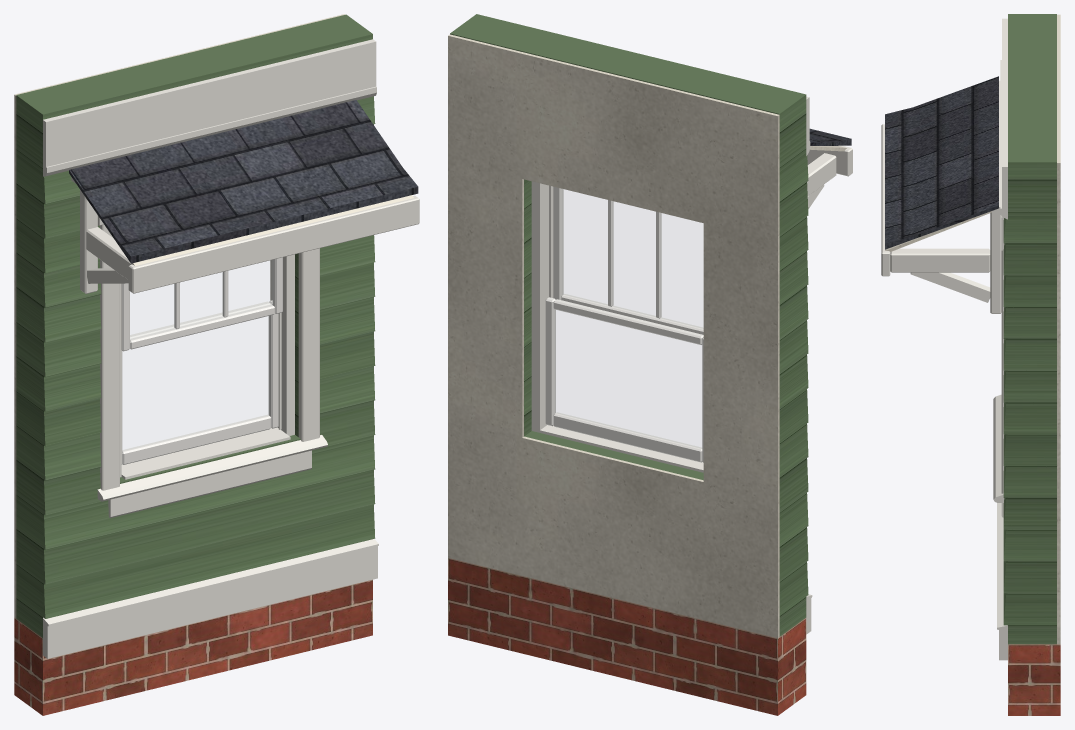
File: wall_siding_window_hood.glb
3 renders of one model, left to right at view 1: azimuth 30°, elevation 25°; view 2: azimuth 150°, elevation 25°; view 3: azimuth 270°, elevation 25°, orthographic. The views are drawn at different scales.
Visible parts, largest first — view 1: wall_siding_window_hood_siding, wall_siding_window_hood_trim, wall_siding_window_hood_shingles, wall_siding_window_hood_brick, folha_glass, wall_siding_window_hood_glass, folha_sash, wall_siding_window_hood_sash, wall_siding_window_hood_plaster, wall_siding_window_hood_frame; view 2: wall_siding_window_hood_plaster, wall_siding_window_hood_brick, wall_siding_window_hood_siding, folha_glass, wall_siding_window_hood_glass, folha_sash, wall_siding_window_hood_frame, wall_siding_window_hood_trim, wall_siding_window_hood_sash; view 3: wall_siding_window_hood_siding, wall_siding_window_hood_shingles, wall_siding_window_hood_trim, wall_siding_window_hood_brick, wall_siding_window_hood_plaster.
Part boxes in pixels (<box>): wall_siding_window_hood_siding: <box>16,14,375,637</box>; wall_siding_window_hood_trim: <box>43,39,419,658</box>; wall_siding_window_hood_shingles: <box>69,100,418,263</box>; wall_siding_window_hood_brick: <box>14,579,372,715</box>; folha_glass: <box>123,316,269,450</box>; wall_siding_window_hood_glass: <box>130,260,273,339</box>; folha_sash: <box>121,300,278,464</box>; wall_siding_window_hood_sash: <box>121,257,282,351</box>; wall_siding_window_hood_plaster: <box>14,14,413,618</box>; wall_siding_window_hood_frame: <box>120,254,294,477</box>; wall_siding_window_hood_plaster: <box>448,34,846,638</box>; wall_siding_window_hood_brick: <box>448,558,806,715</box>; wall_siding_window_hood_siding: <box>450,14,808,636</box>; folha_glass: <box>555,310,701,447</box>; wall_siding_window_hood_glass: <box>563,189,702,327</box>; folha_sash: <box>545,297,703,462</box>; wall_siding_window_hood_frame: <box>531,181,553,432</box>; wall_siding_window_hood_trim: <box>540,96,852,634</box>; wall_siding_window_hood_sash: <box>553,186,703,334</box>; wall_siding_window_hood_siding: <box>1003,14,1056,644</box>; wall_siding_window_hood_shingles: <box>885,76,998,249</box>; wall_siding_window_hood_trim: <box>881,18,1007,660</box>; wall_siding_window_hood_brick: <box>1008,644,1060,715</box>; wall_siding_window_hood_plaster: <box>885,14,1060,644</box>.
Bounding box in the file's own units: 2 × 3.48 × 1.02.
8 materials, 4 textured.
